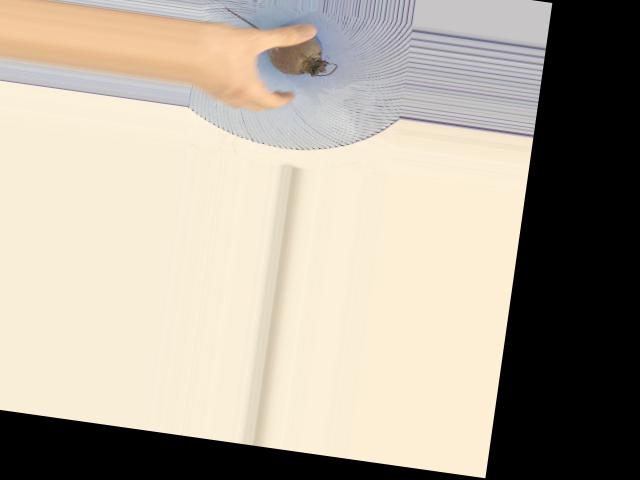beet: (217, 6, 344, 80)
